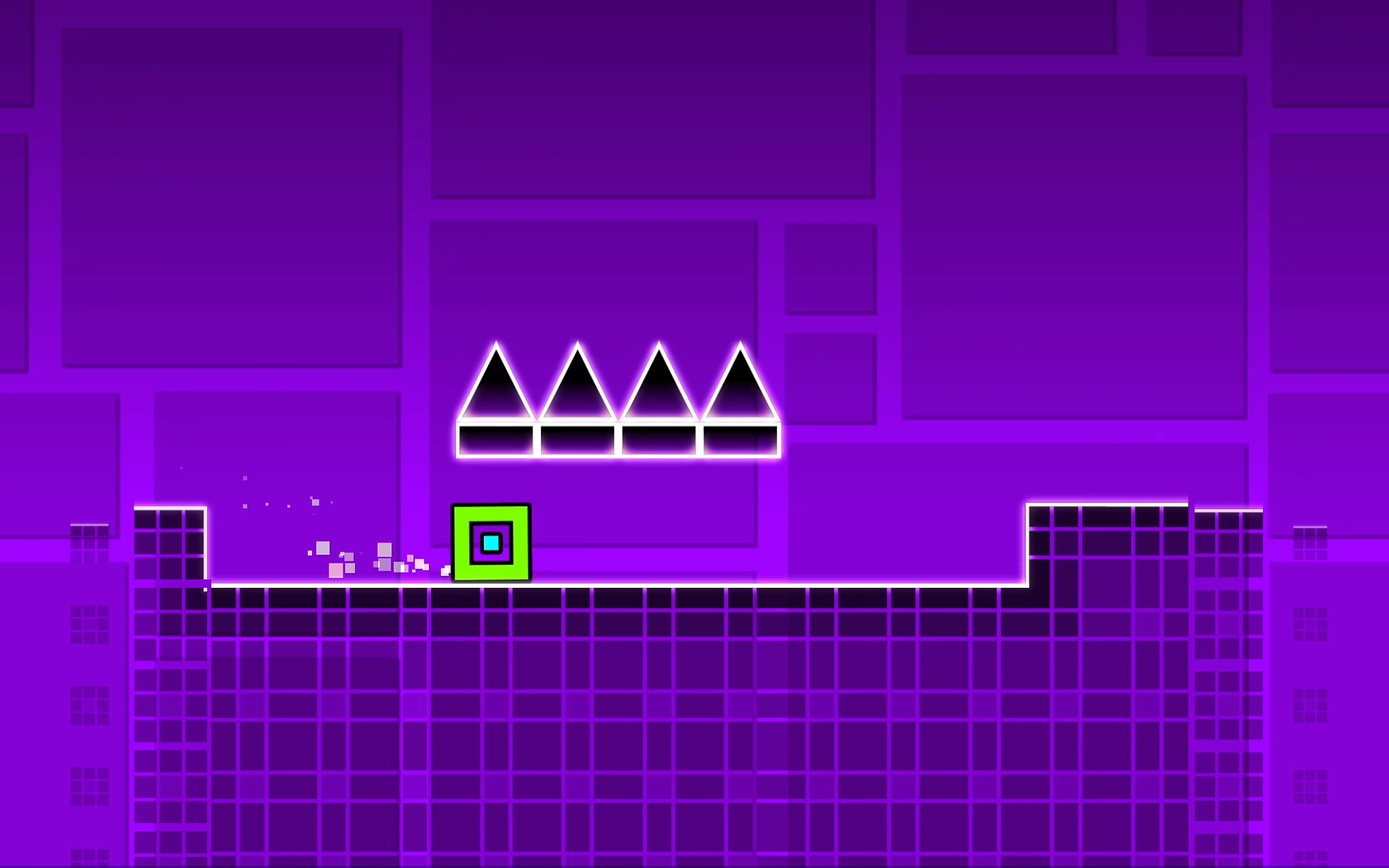Block2: (210, 583, 1031, 868), (1021, 493, 1329, 868), (66, 510, 204, 855)
Block3: (538, 420, 617, 456), (701, 419, 786, 452), (461, 422, 535, 457), (619, 423, 694, 457)
Player: (448, 503, 531, 580)
Spike: (702, 342, 777, 419), (457, 342, 532, 419), (622, 342, 696, 417), (540, 344, 613, 417)
